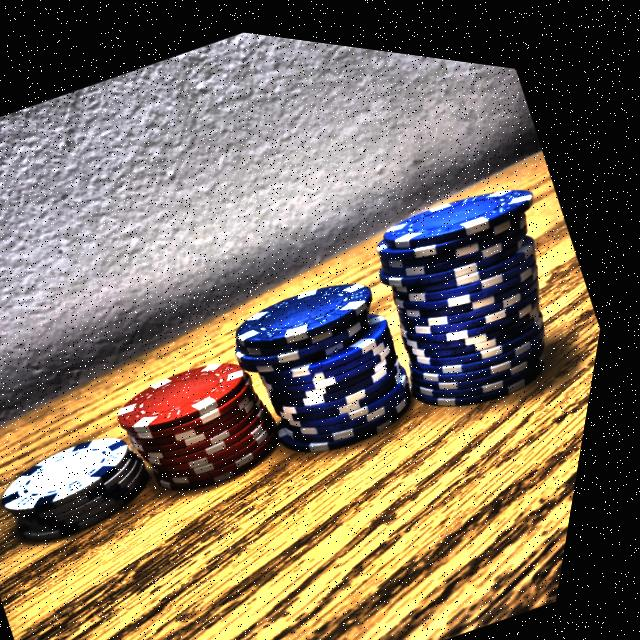Chip: (326, 123, 629, 449), (210, 225, 460, 487), (99, 306, 323, 527), (0, 380, 198, 578)
